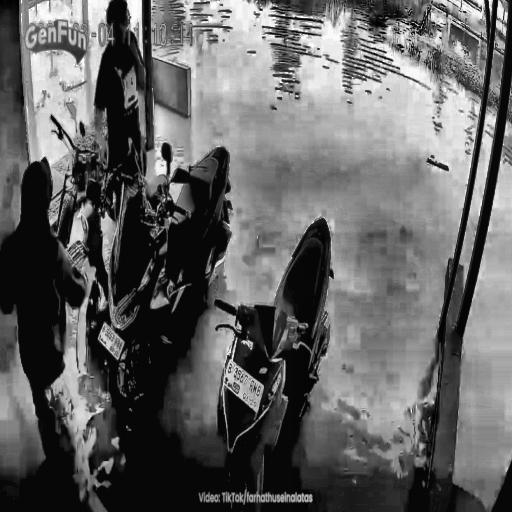banjir: (148, 0, 479, 511), (456, 121, 512, 506), (148, 308, 229, 511)
